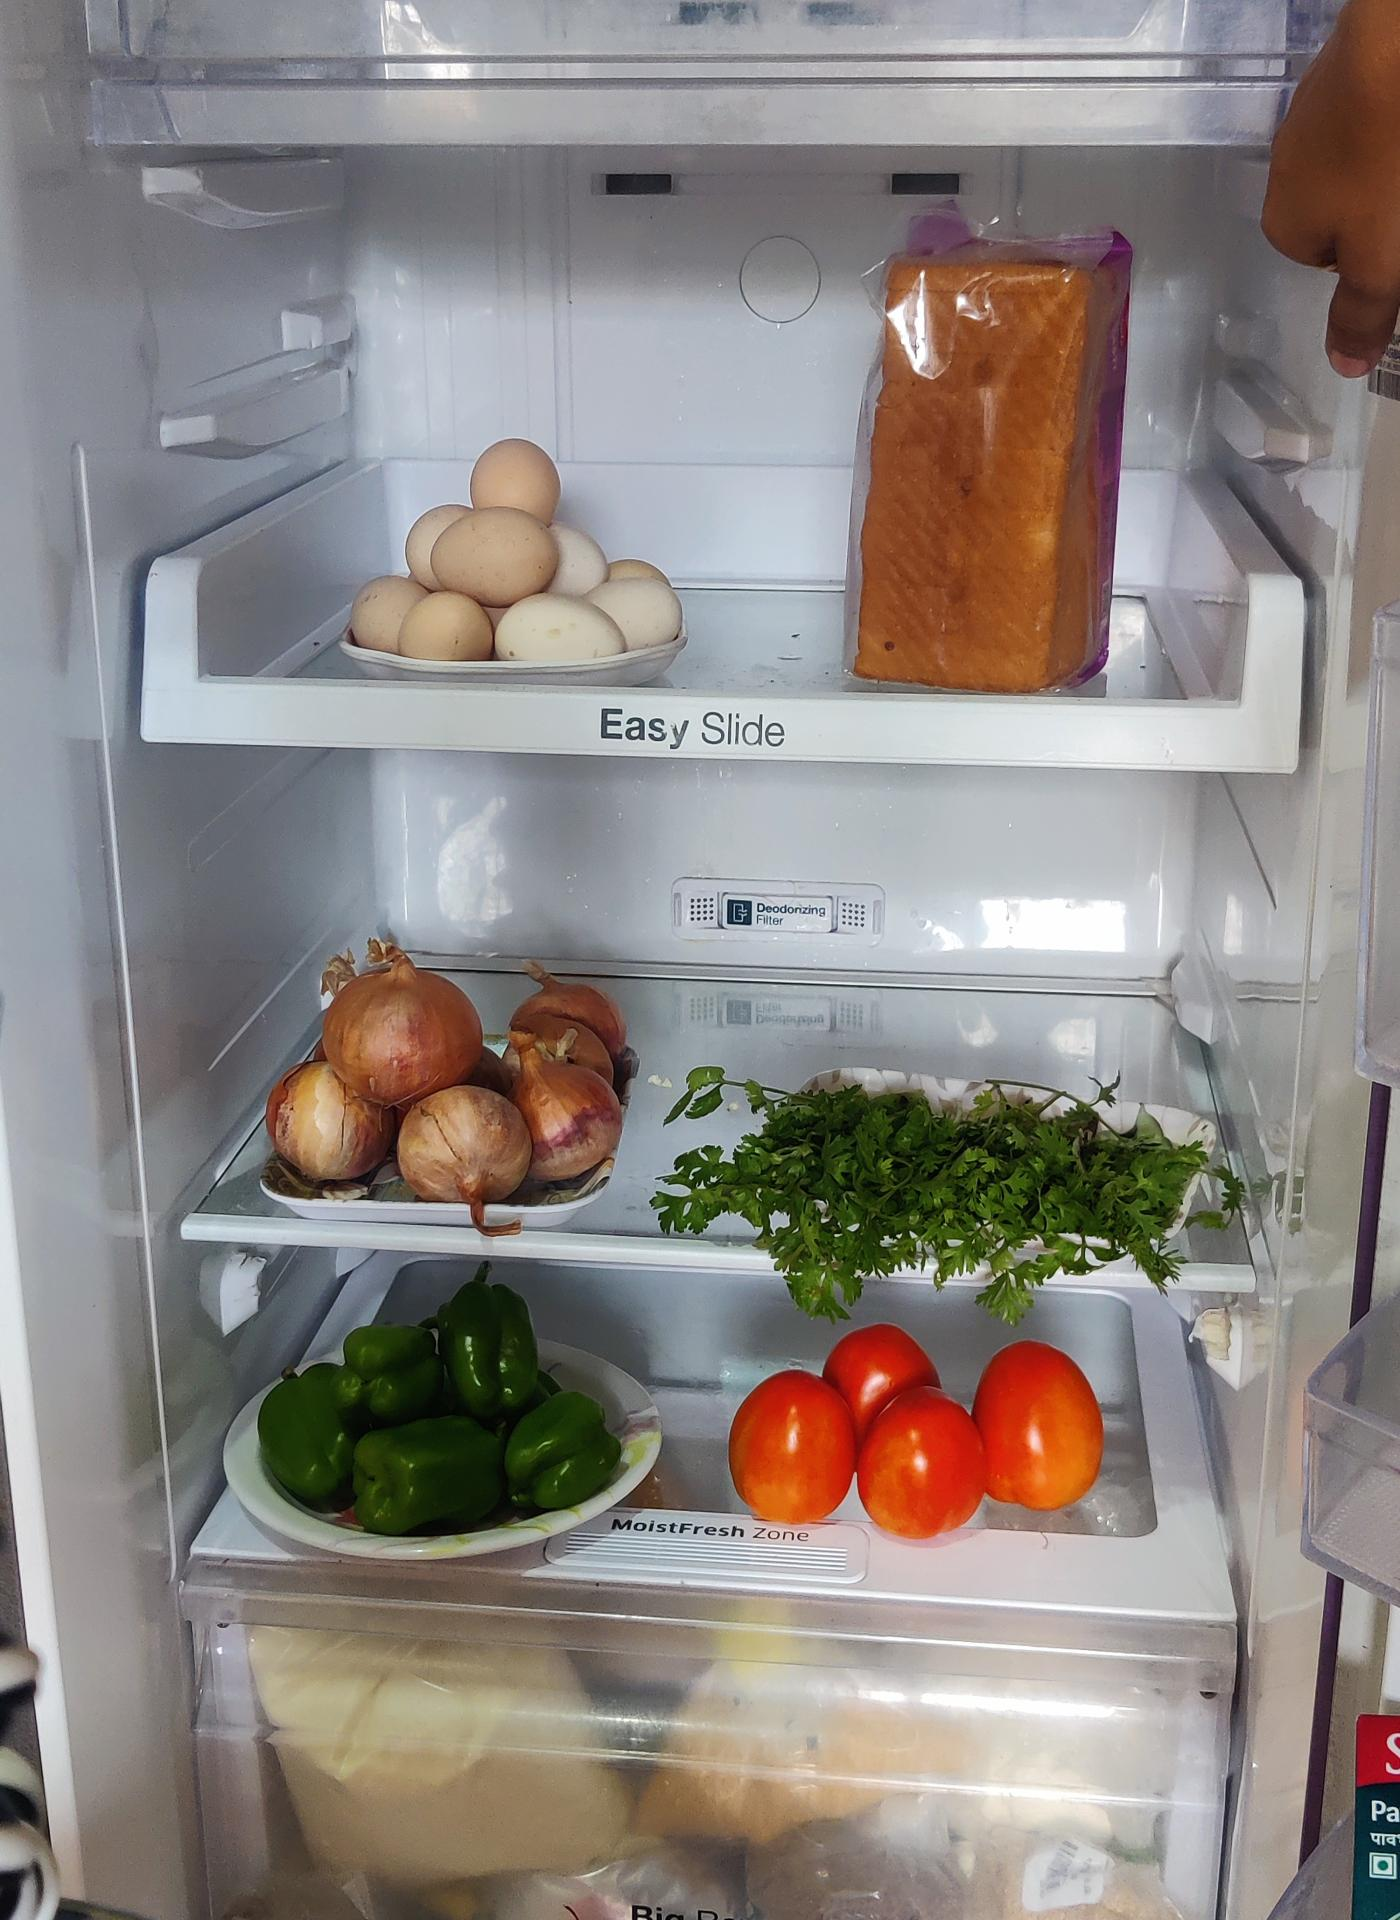bread: (836, 212, 1136, 692)
capsicum: (260, 1284, 638, 1538)
coriander: (670, 1084, 1196, 1308)
egg: (350, 423, 685, 658)
onion: (264, 935, 636, 1202)
tomato: (730, 1327, 1112, 1540)
